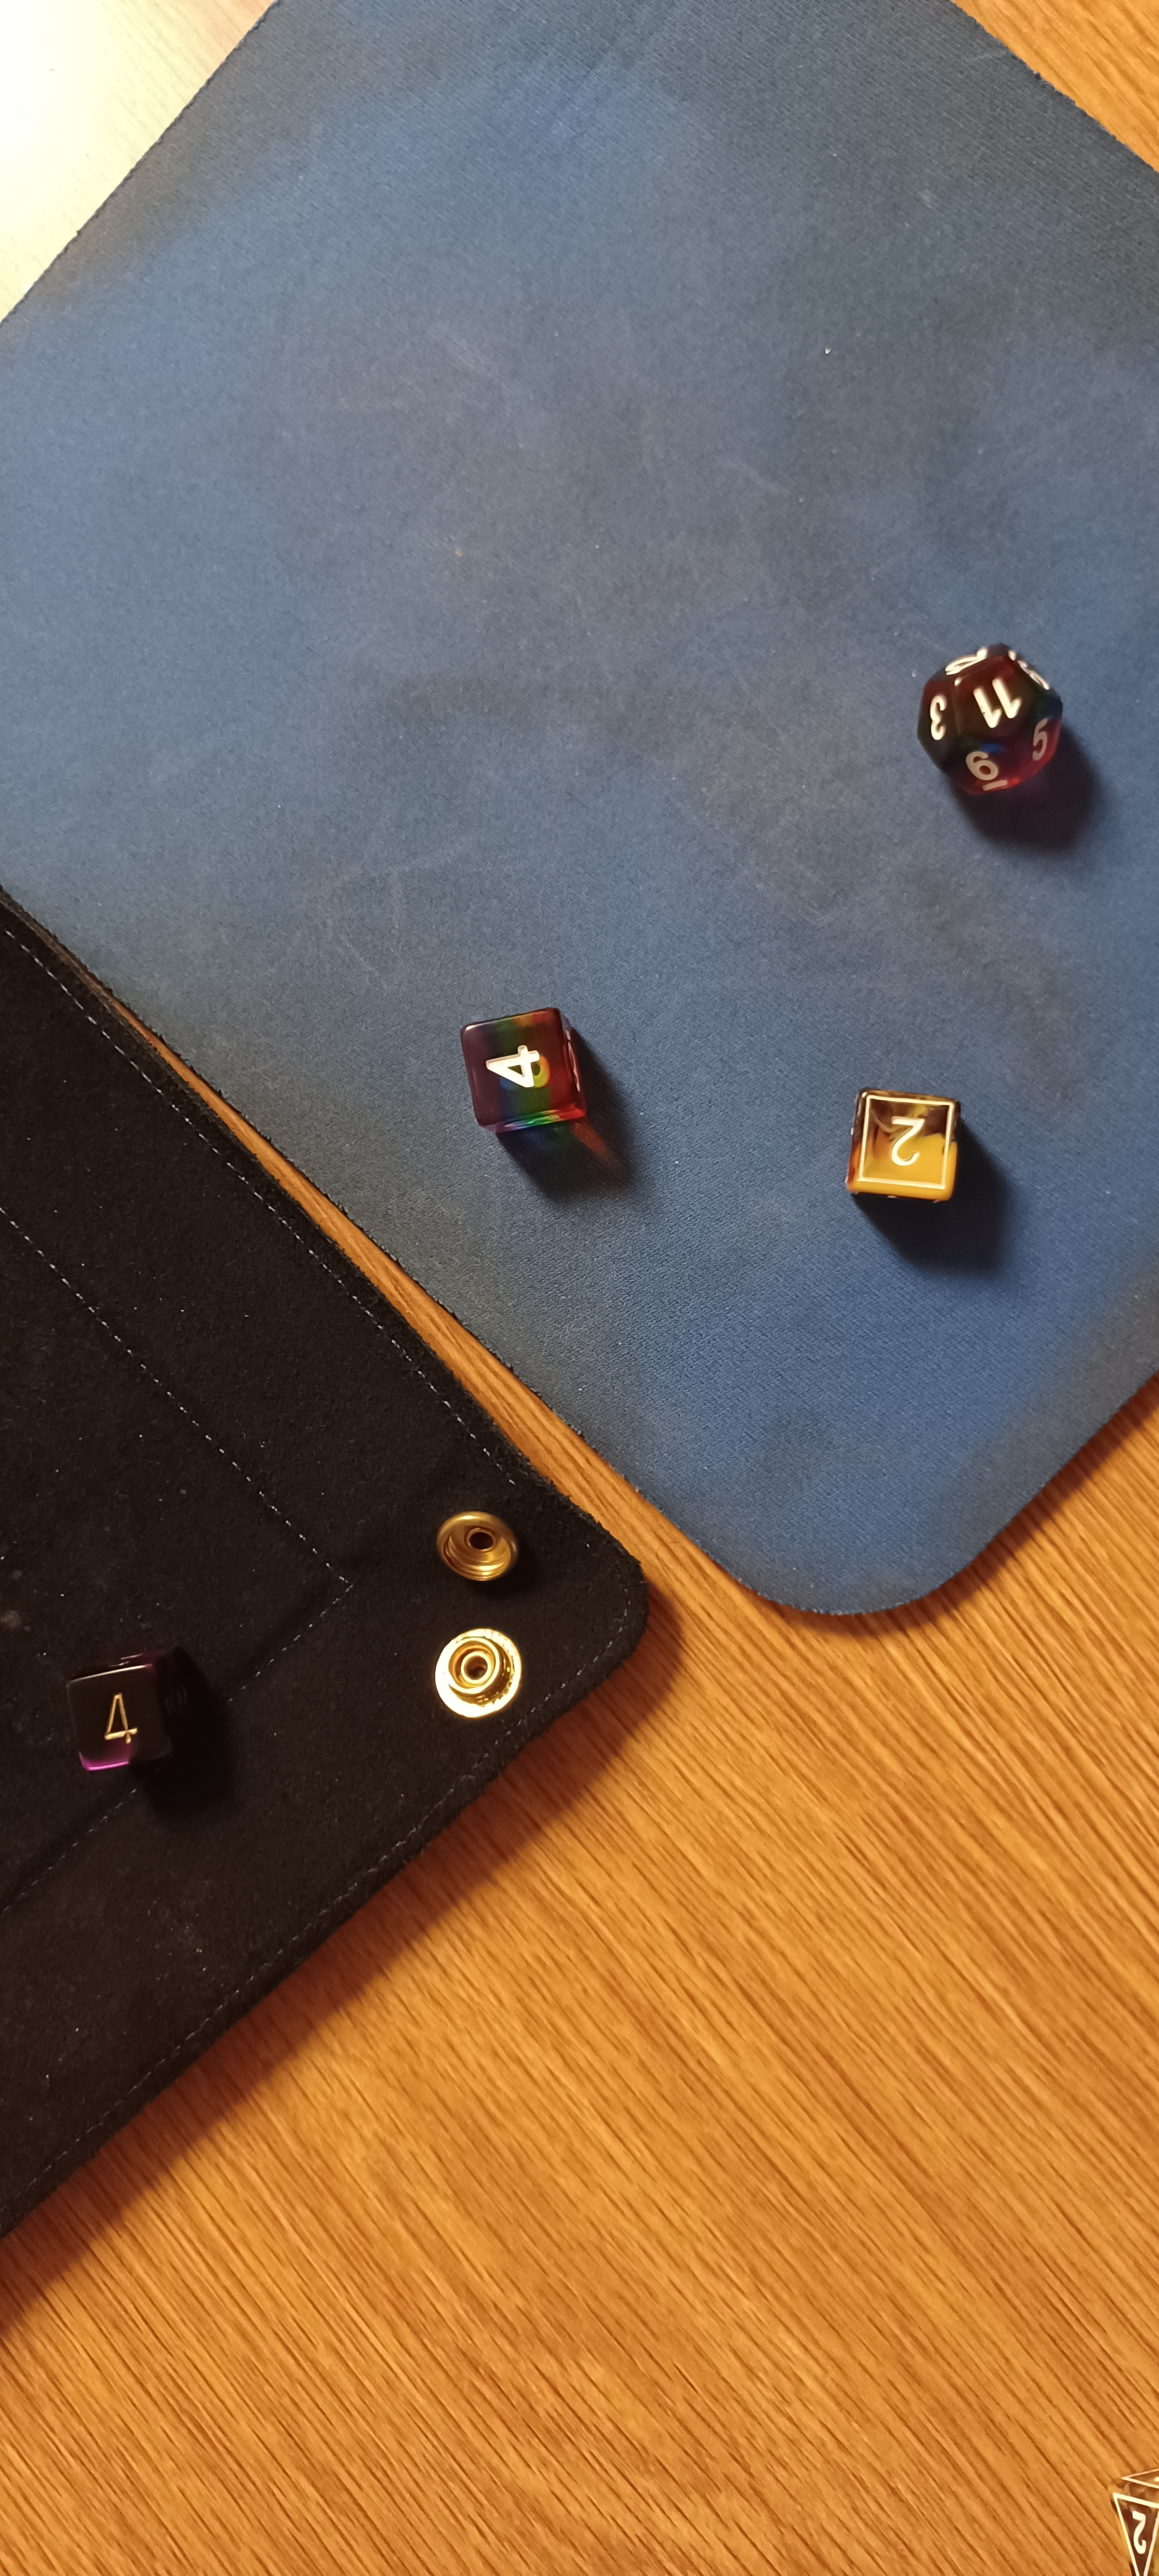eleven: (875, 616, 1110, 813)
four: (419, 971, 619, 1166), (31, 1640, 241, 1801)
two: (796, 1055, 1006, 1253)
